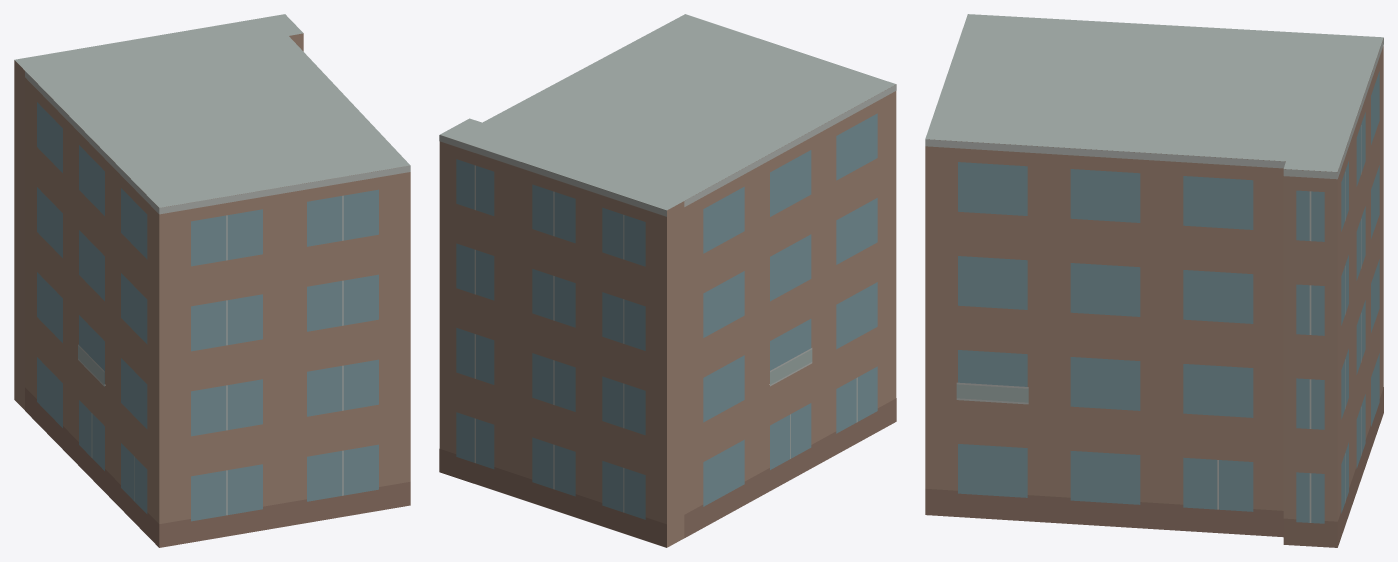
File: survey-upis-32662469.glb
The picture shows the model from 3 angles, left to right: view 1: azimuth 30°, elevation 25°; view 2: azimuth 150°, elevation 25°; view 3: azimuth 270°, elevation 25°; orthographic projection. The views are drawn at different scales.
Parts seen in each view (by area): view 1: survey-upis-32662469.tmp; view 2: survey-upis-32662469.tmp; view 3: survey-upis-32662469.tmp.
Boxes of the visible parts, x1,y1,x2,y2 form: survey-upis-32662469.tmp: (14,14,410,547); survey-upis-32662469.tmp: (439,14,896,547); survey-upis-32662469.tmp: (925,14,1383,547).
Size of the model in its own units: 11.56 by 12.8 by 14.17.
